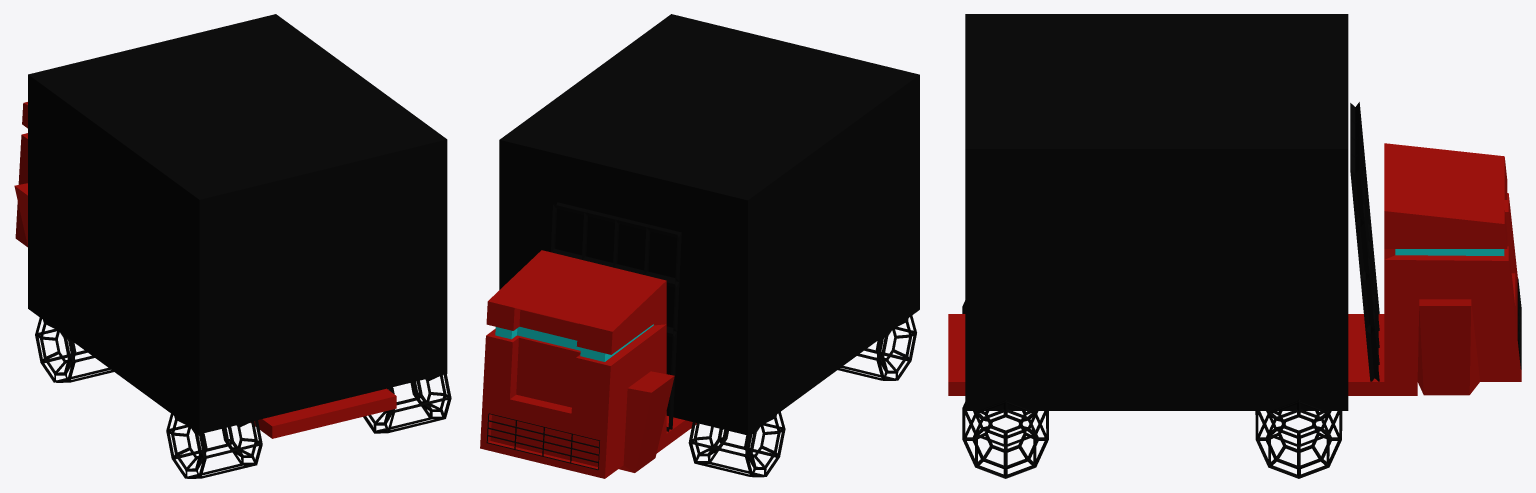
File: ContenaCar.gltf
3 renders of one model, left to right at view 1: azimuth 30°, elevation 25°; view 2: azimuth 150°, elevation 25°; view 3: azimuth 270°, elevation 25°, orthographic. The views are drawn at different scales.
Parts seen in each view (by area): view 1: Cube, 円柱, 立方体; view 2: Cube, 立方体, 円柱, 立方体.001, 立方体.002; view 3: Cube, 立方体, 円柱, 立方体.001.
Part boxes in pixels (x1,y1,x2,y2): Cube: (28,14,447,434); 円柱: (35,317,451,478); 立方体: (14,102,396,438); Cube: (499,14,919,435); 立方体: (480,250,696,478); 円柱: (688,315,916,477); 立方体.001: (551,202,681,431); 立方体.002: (486,413,599,470); Cube: (965,14,1348,410); 立方体: (948,143,1521,395); 円柱: (962,300,1342,478); 立方体.001: (1350,102,1379,381).
Size of the model in its own units: 16.34 by 18.27 by 28.92.
